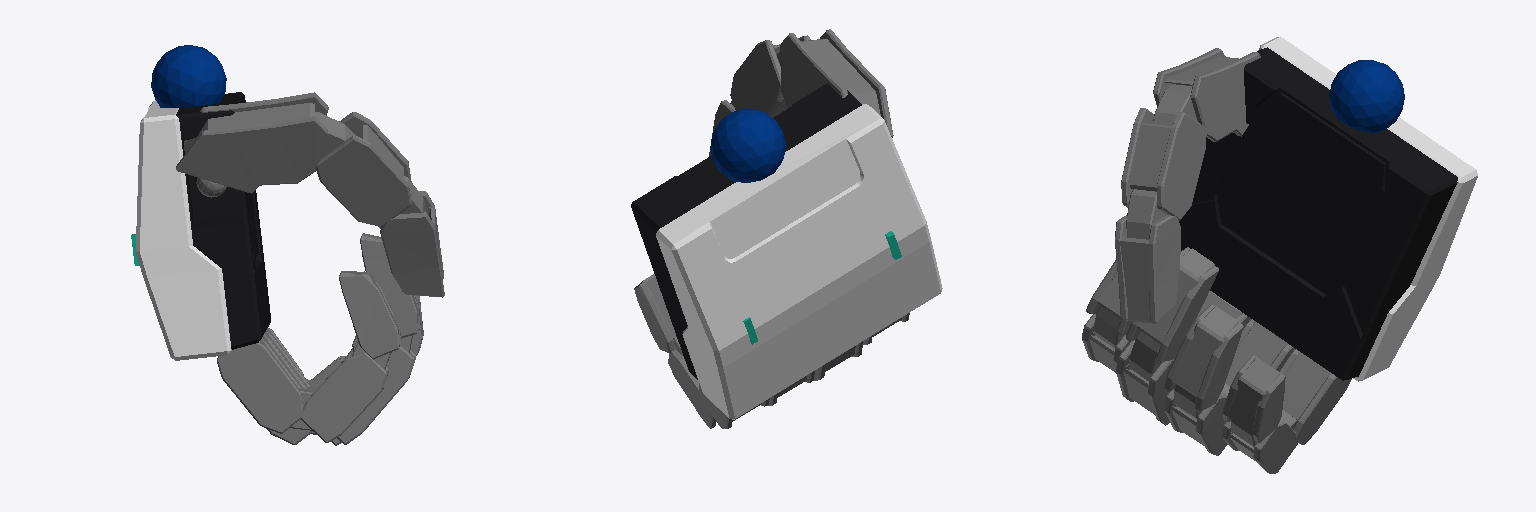
Rendered from leftFist.obj.
3 views of the same model, side by side, from view 1: azimuth 30°, elevation 25°; view 2: azimuth 150°, elevation 25°; view 3: azimuth 270°, elevation 25° (orthographic).
Visible parts, largest first — view 1: leftFist freedom:ChafCaja825, leftFist freedom:ChafCaja863, leftFist freedom:ChafCaja816, leftFist freedom:ChafCaja820, leftFist freedom:ChafCaja855, leftFist freedom:ChafCaja852, leftFist freedom:ChafCaja866, leftFist freedom:Geoesfera11, leftFist freedom:ChafCaja848, leftFist freedom:ChafCaja833, leftFist freedom:ChafCaja838, leftFist freedom:ChafCaja818 (+4 smaller); view 2: leftFist freedom:ChafCaja825, leftFist freedom:ChafCaja863, leftFist freedom:Geoesfera11, leftFist freedom:ChafCaja822, leftFist freedom:ChafCaja817, leftFist freedom:ChafCaja818, leftFist freedom:ChafCaja877, leftFist freedom:ChafCaja872, leftFist freedom:ChafCaja816; view 3: leftFist freedom:ChafCaja863, leftFist freedom:ChafCaja825, leftFist freedom:Geoesfera11, leftFist freedom:ChafCaja822, leftFist freedom:ChafCaja817, leftFist freedom:ChafCaja824left_hand, leftFist freedom:ChafCaja861, leftFist freedom:ChafCaja867, leftFist freedom:ChafCaja821, leftFist freedom:ChafCaja875, leftFist freedom:ChafCaja865, leftFist freedom:ChafCaja832 (+20 smaller).
Boxes of the visible parts, box(x1,y1,x2,y2) form: leftFist freedom:ChafCaja825: box(136, 100, 231, 360); leftFist freedom:ChafCaja863: box(176, 92, 270, 349); leftFist freedom:ChafCaja816: box(176, 116, 327, 193); leftFist freedom:ChafCaja820: box(316, 135, 411, 226); leftFist freedom:ChafCaja855: box(217, 343, 302, 433); leftFist freedom:ChafCaja852: box(301, 353, 386, 442); leftFist freedom:ChafCaja866: box(380, 212, 444, 297); leftFist freedom:Geoesfera11: box(151, 45, 226, 108); leftFist freedom:ChafCaja848: box(339, 274, 398, 359); leftFist freedom:ChafCaja833: box(360, 238, 417, 338); leftFist freedom:ChafCaja838: box(337, 346, 413, 444); leftFist freedom:ChafCaja818: box(184, 103, 314, 153); leftFist freedom:ChafCaja825: box(656, 104, 942, 419); leftFist freedom:ChafCaja863: box(631, 83, 861, 379); leftFist freedom:Geoesfera11: box(710, 108, 785, 182); leftFist freedom:ChafCaja822: box(730, 40, 782, 116); leftFist freedom:ChafCaja817: box(780, 33, 847, 108); leftFist freedom:ChafCaja818: box(801, 39, 880, 115); leftFist freedom:ChafCaja877: box(634, 282, 675, 353); leftFist freedom:ChafCaja872: box(668, 350, 715, 428); leftFist freedom:ChafCaja816: box(820, 29, 893, 137); leftFist freedom:ChafCaja863: box(1179, 47, 1457, 380); leftFist freedom:ChafCaja825: box(1258, 36, 1477, 381); leftFist freedom:Geoesfera11: box(1329, 60, 1404, 132); leftFist freedom:ChafCaja822: box(1157, 112, 1206, 220); leftFist freedom:ChafCaja817: box(1190, 52, 1260, 141); leftFist freedom:ChafCaja824left_hand: box(1149, 215, 1180, 322); leftFist freedom:ChafCaja861: box(1172, 306, 1238, 396); leftFist freedom:ChafCaja867: box(1120, 235, 1154, 323); leftFist freedom:ChafCaja821: box(1130, 123, 1171, 191); leftFist freedom:ChafCaja875: box(1227, 358, 1280, 433); leftFist freedom:ChafCaja865: box(1283, 352, 1331, 419); leftFist freedom:ChafCaja832: box(1156, 266, 1218, 362).
Size of the model in its own units: 9.63 by 12.51 by 11.93.